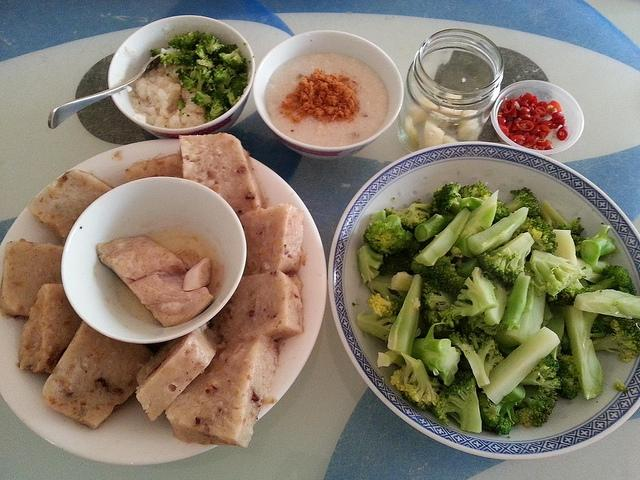broccoli: (482, 327, 561, 405), (564, 304, 604, 400), (438, 266, 498, 328), (476, 232, 535, 292), (414, 208, 470, 266), (430, 372, 482, 433), (411, 322, 460, 386), (452, 190, 498, 258), (387, 274, 423, 357), (468, 207, 529, 255), (390, 353, 440, 411), (530, 250, 586, 296), (477, 384, 526, 436), (506, 286, 546, 344), (572, 222, 620, 268), (592, 317, 640, 363), (363, 214, 414, 257), (503, 216, 558, 255), (573, 289, 640, 319), (431, 257, 480, 297), (384, 199, 438, 234), (430, 182, 485, 216), (500, 275, 532, 330), (586, 265, 638, 296), (540, 200, 584, 236), (518, 356, 564, 390), (523, 385, 560, 427), (414, 212, 456, 242), (554, 355, 580, 400), (506, 188, 542, 219), (357, 245, 383, 283), (423, 283, 457, 312), (368, 274, 403, 302), (552, 229, 578, 266), (484, 348, 504, 380), (182, 31, 215, 50), (210, 88, 232, 116), (544, 313, 564, 341), (194, 44, 215, 70), (212, 64, 236, 86), (230, 73, 248, 100), (178, 71, 198, 94), (163, 54, 194, 68), (202, 36, 226, 54), (391, 272, 413, 291), (190, 68, 206, 92), (230, 52, 247, 74), (190, 90, 212, 106), (178, 31, 200, 46)
